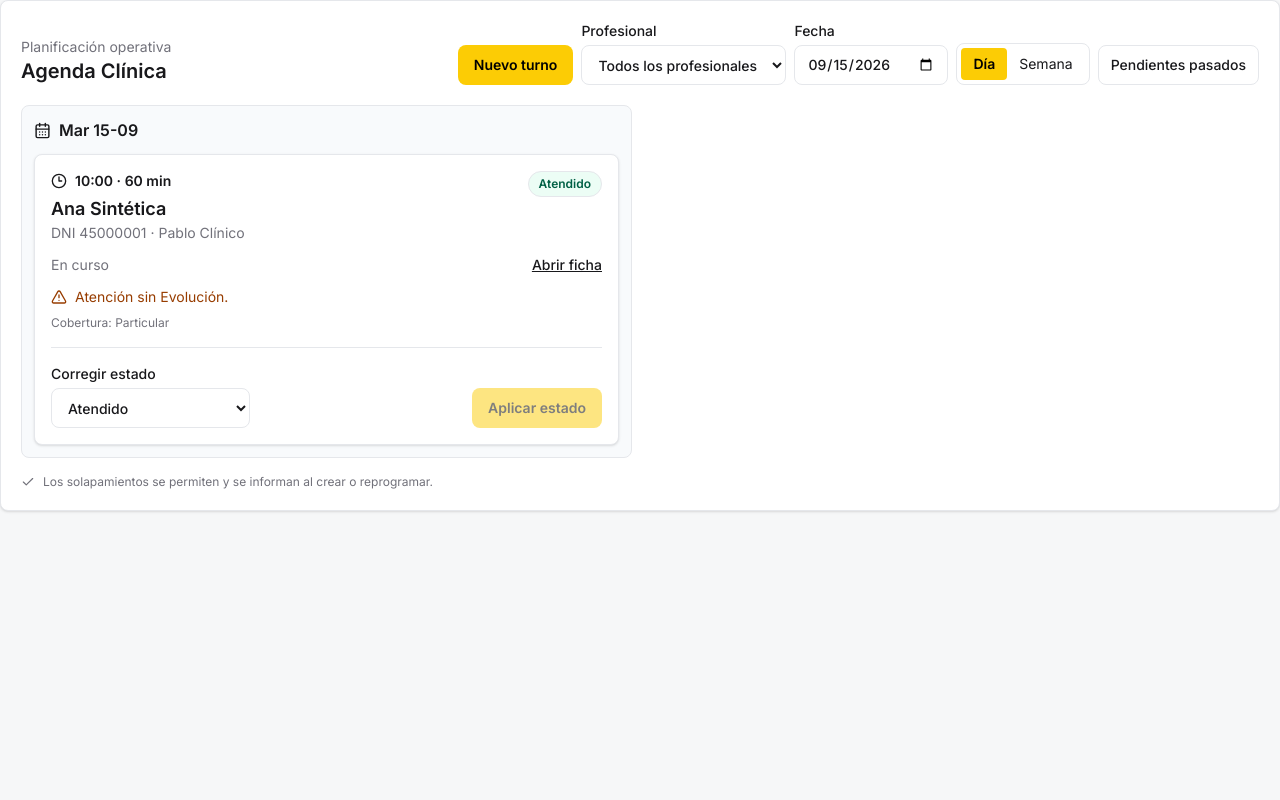
shows the stable dependency conflict without exposing a payload
Select "Cancelado" in the dropdown named "Nuevo estado de Ana Sintética" at {"x": 150, "y": 408}, box [51,388,250,428]
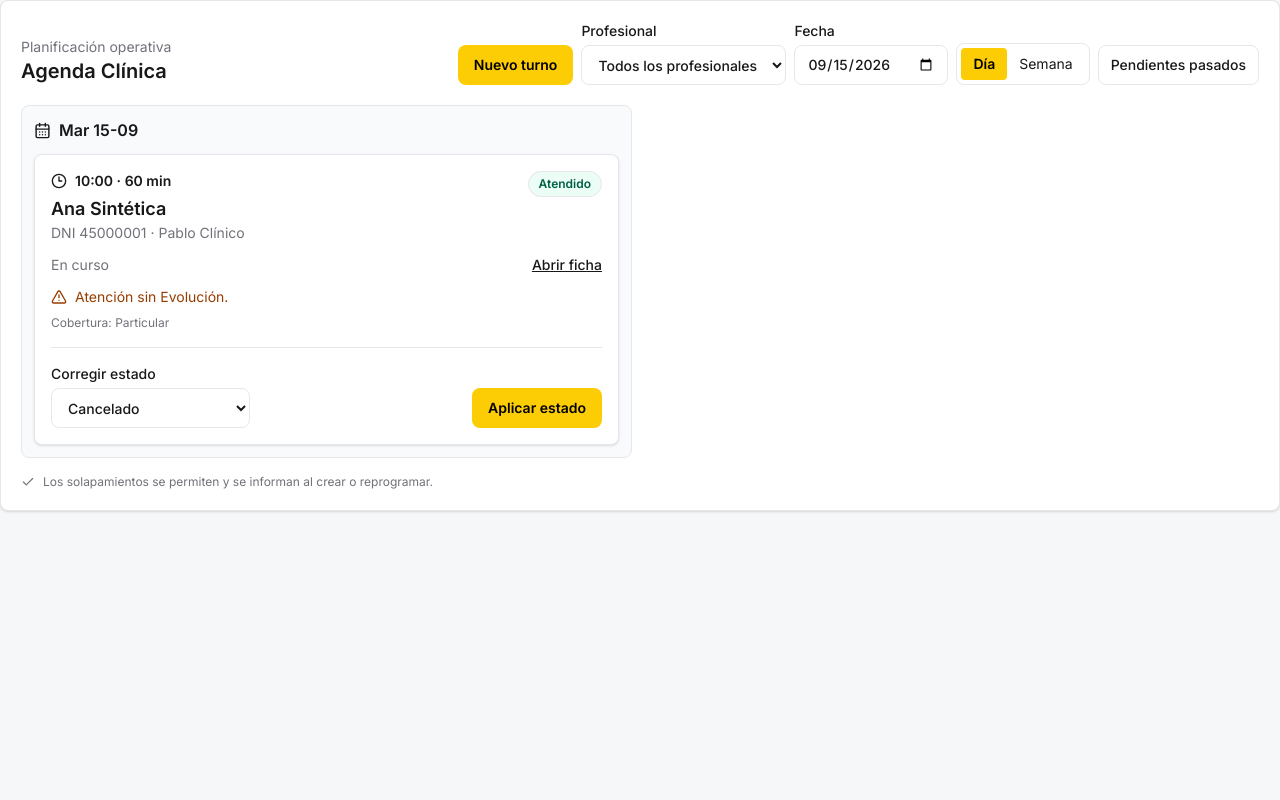
Click the button "Aplicar estado" at {"x": 537, "y": 408}, box [472,388,602,428]
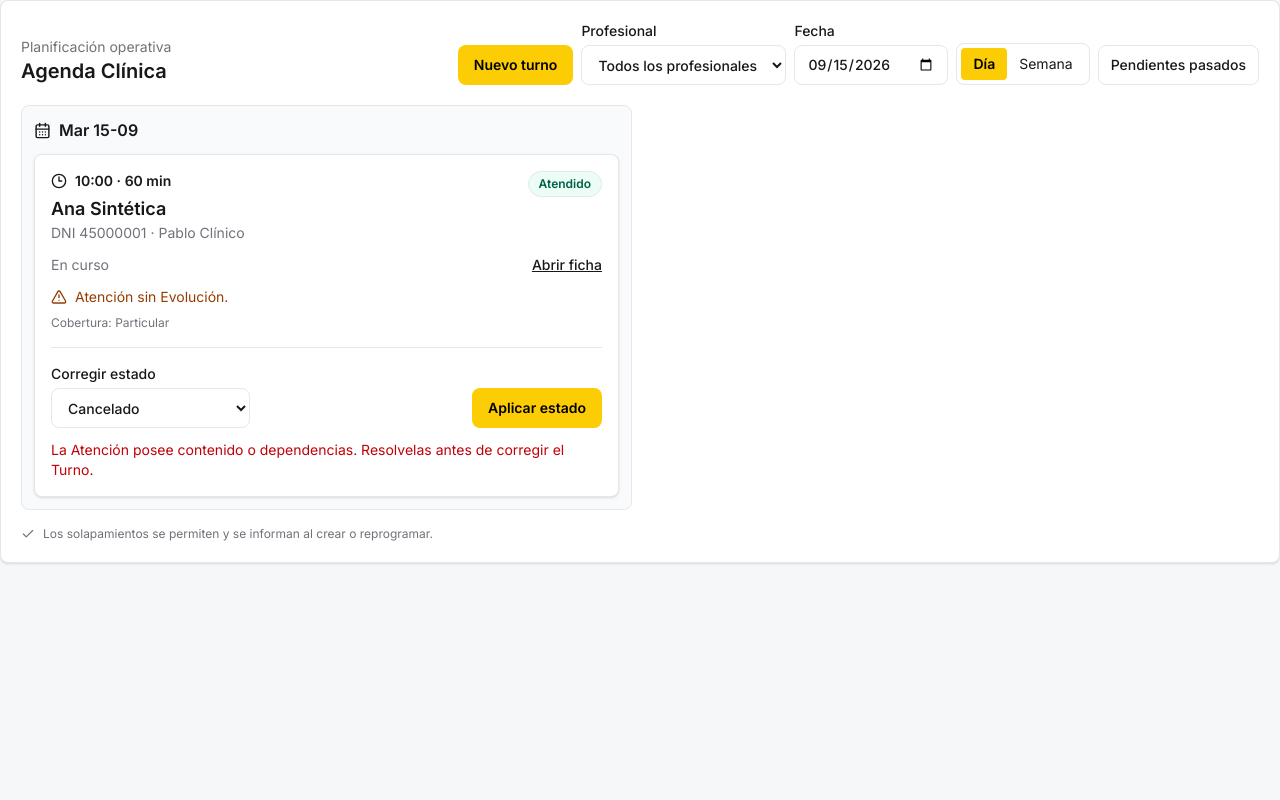
Expected: the message does not show "internal detail", [51,440,602,480]
Expected: the message shows "La Atención posee contenido o dependencias.", [51,441,564,478]
